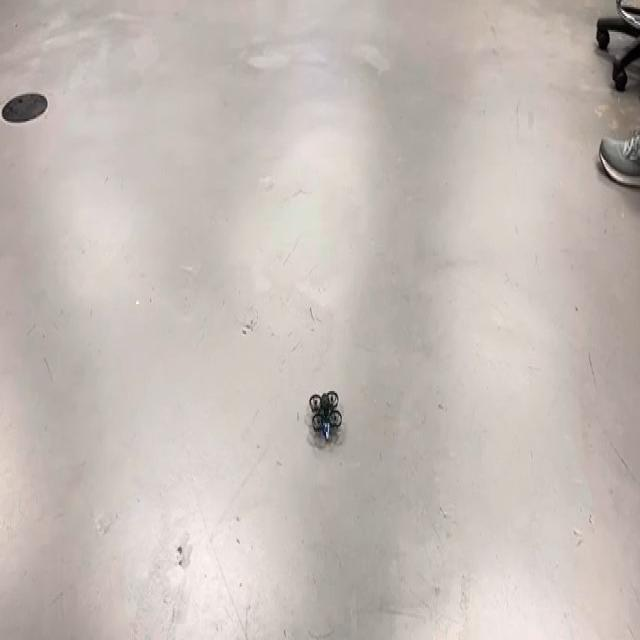drone: (305, 376, 351, 456)
